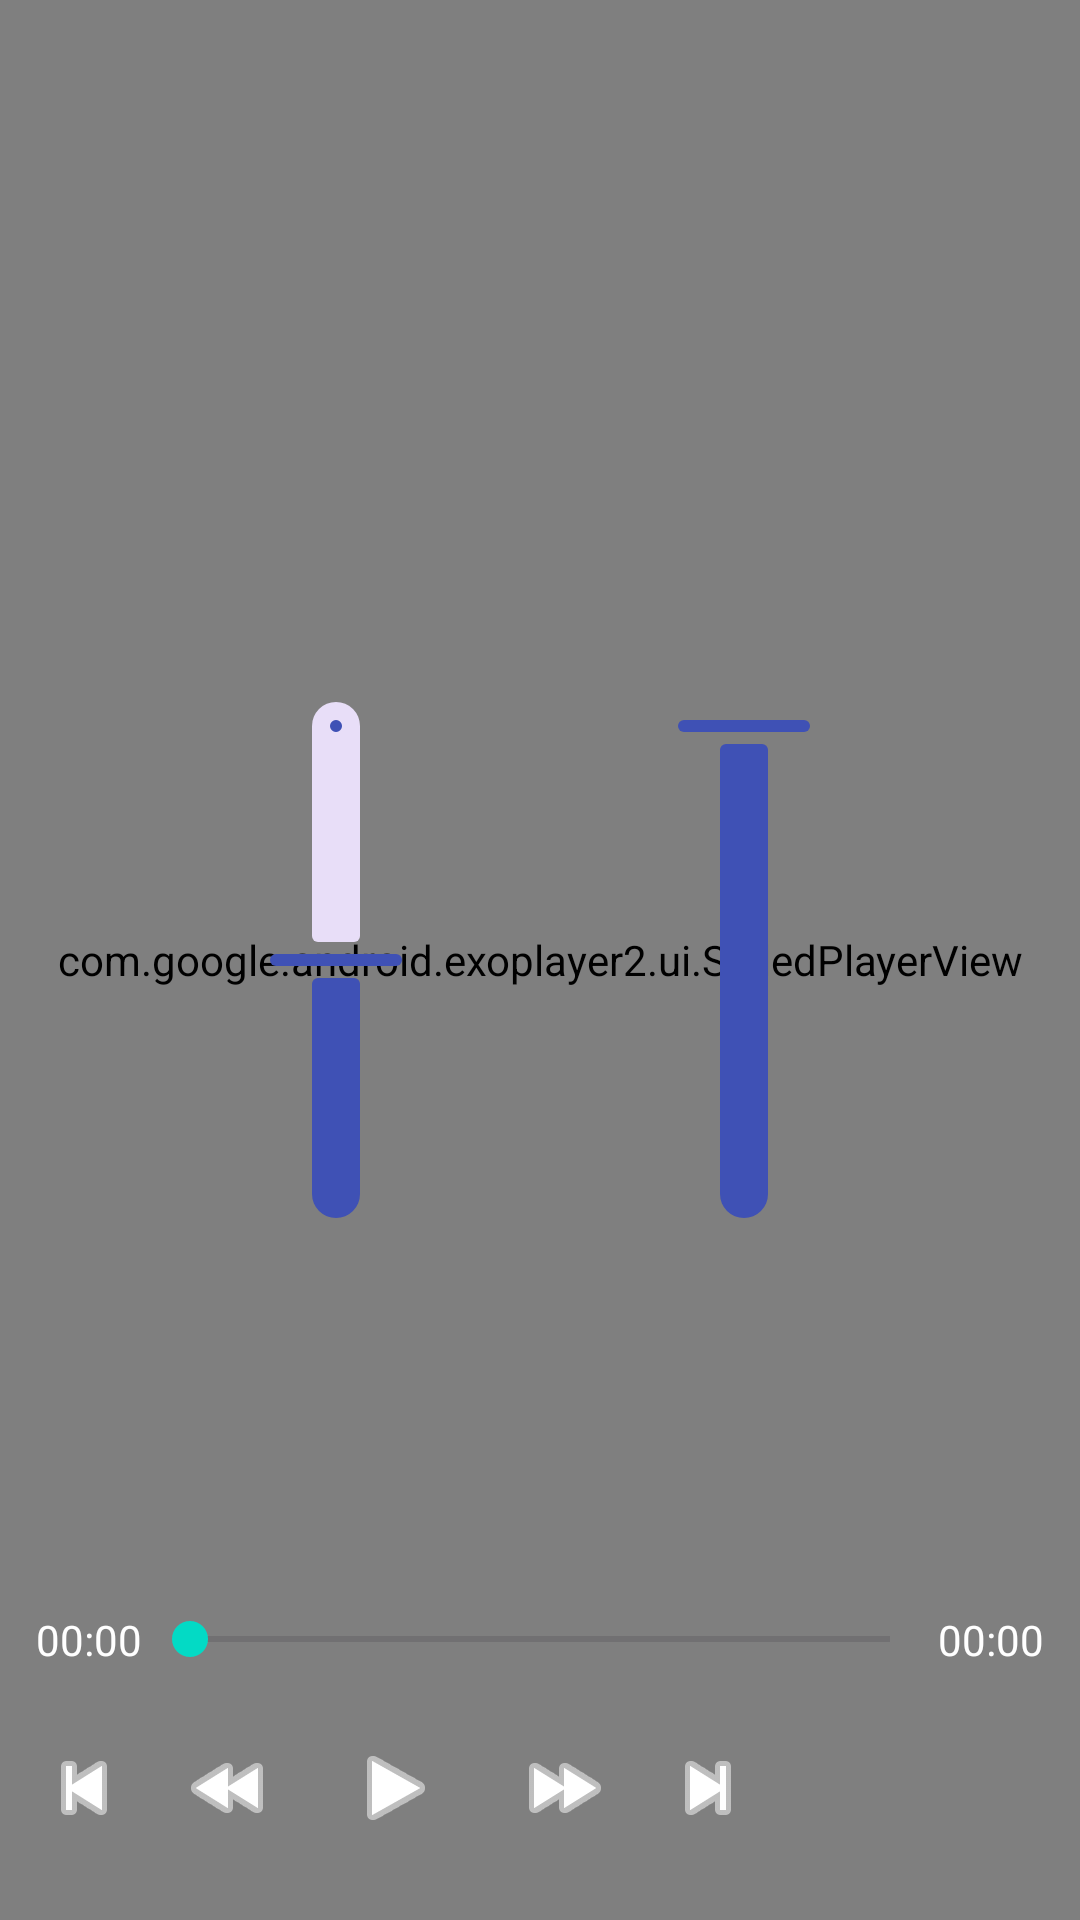

Icons on this 1080px×1920px Android screen, each with the point to tap as point (x, y):
next: point (708, 1788)
rew: point (227, 1788)
